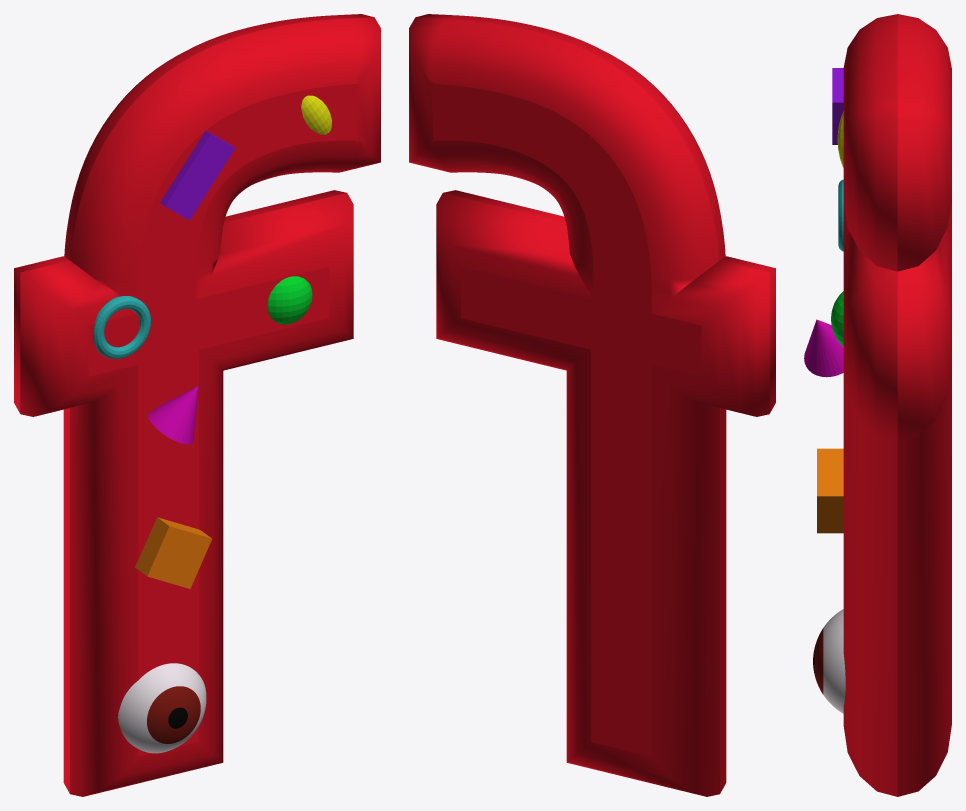
File: f_red.fbx
3 renders of one model, left to right at view 1: azimuth 30°, elevation 25°; view 2: azimuth 150°, elevation 25°; view 3: azimuth 270°, elevation 25°, orthographic. The views are drawn at different scales.
Visible parts, largest first — view 1: Text, Sphere, Cube, Cube.001, Torus, Cone, Sphere.001, Sphere.002; view 2: Text; view 3: Text, Sphere, Cube, Cone, Cube.001, Sphere.001, Torus.
Boxes of the visible parts, bbox=[...] form: Text: bbox=[14, 14, 380, 796]; Sphere: bbox=[118, 663, 206, 753]; Cube: bbox=[135, 517, 211, 588]; Cube.001: bbox=[160, 130, 235, 220]; Torus: bbox=[93, 296, 150, 358]; Cone: bbox=[147, 386, 198, 444]; Sphere.001: bbox=[267, 276, 312, 324]; Sphere.002: bbox=[301, 95, 331, 134]; Text: bbox=[409, 14, 775, 796]; Text: bbox=[843, 14, 951, 796]; Sphere: bbox=[813, 609, 845, 713]; Cube: bbox=[817, 448, 843, 533]; Cone: bbox=[804, 319, 843, 377]; Cube.001: bbox=[832, 68, 843, 144]; Sphere.001: bbox=[831, 291, 843, 346]; Torus: bbox=[838, 179, 843, 251].
Bounding box in the file's own units: 80.69 × 156 × 26.92.
